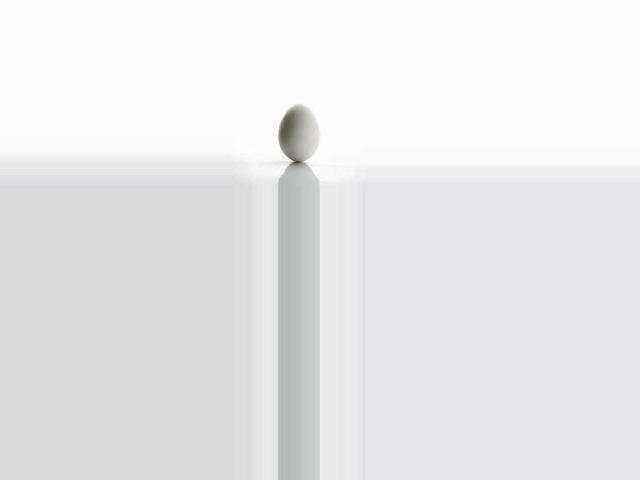egg: (278, 104, 319, 162)
